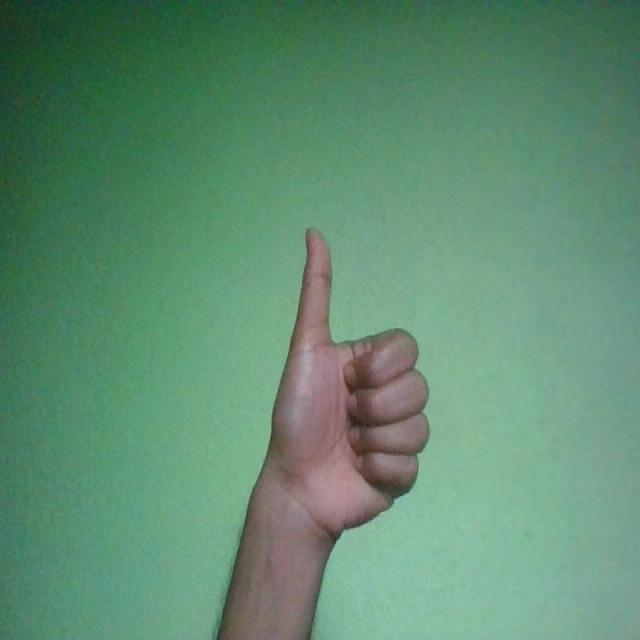Good Job: (271, 227, 431, 544)
